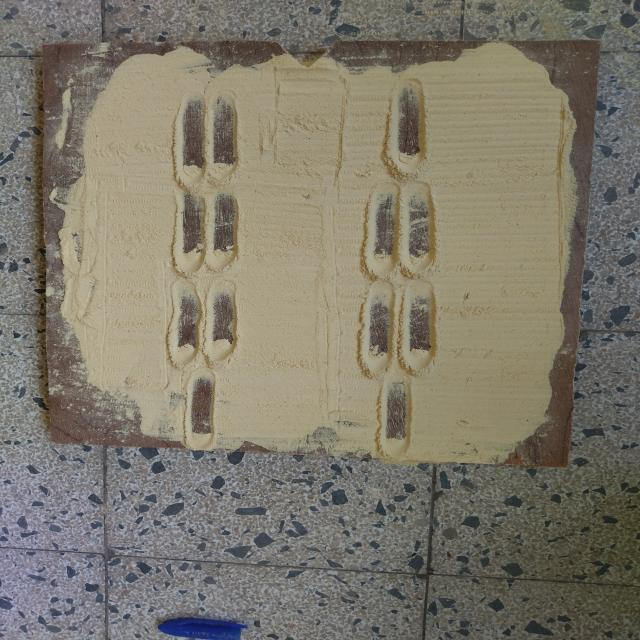double: (354, 280, 444, 378), (360, 180, 442, 283), (168, 86, 242, 188), (165, 275, 243, 370), (168, 188, 246, 274)
single: (378, 74, 434, 180), (376, 372, 418, 463), (180, 367, 222, 452)
